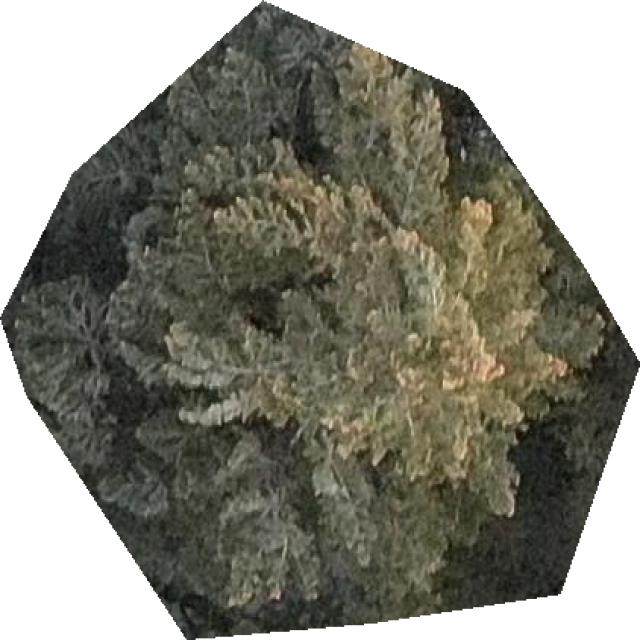spruce: (0, 3, 638, 638)
